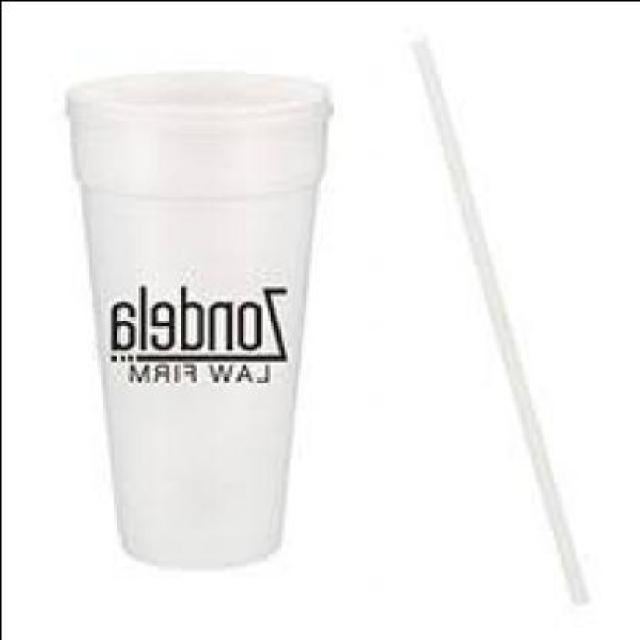PAPER: (66, 69, 332, 565)
